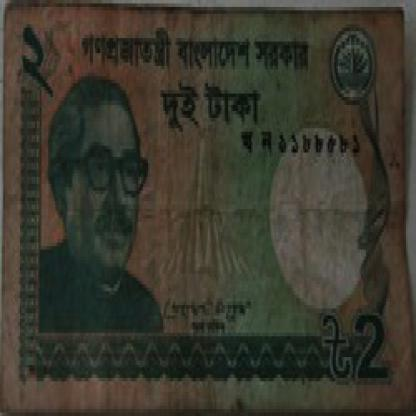two taka: (344, 298, 388, 392), (15, 17, 63, 97)
